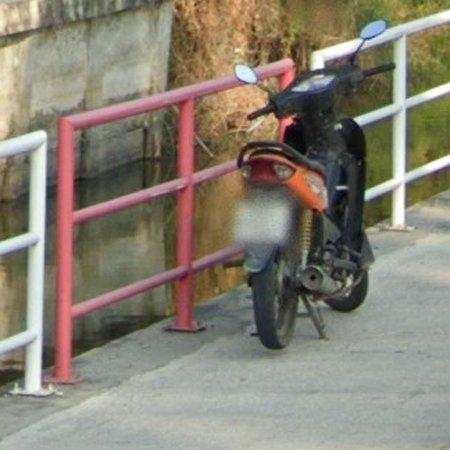motorcycles: (235, 21, 395, 349)
